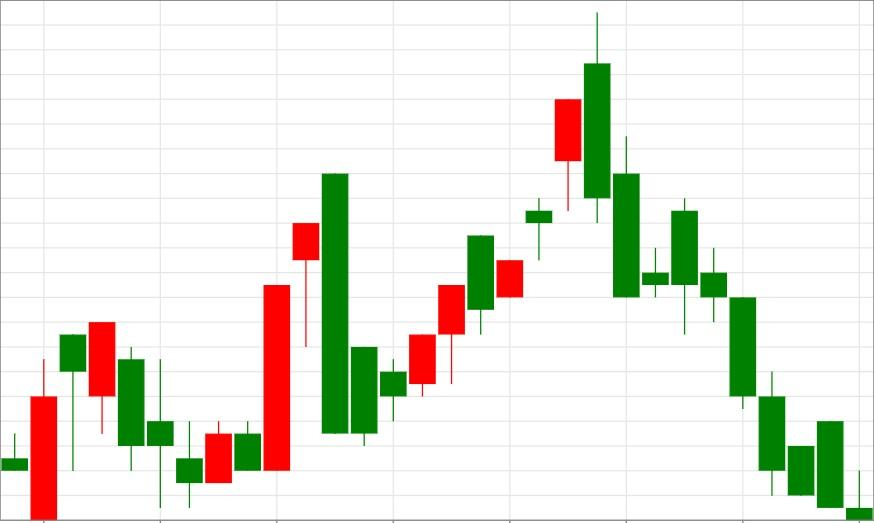bearish_engulfing_fall: (349, 12, 611, 445), (176, 174, 349, 507)
hanging_man_fall: (0, 334, 86, 520)
